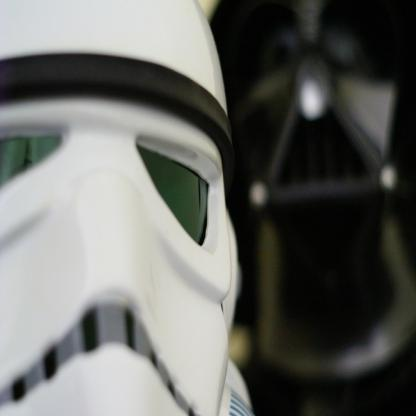Helmet: (0, 10, 263, 395)
